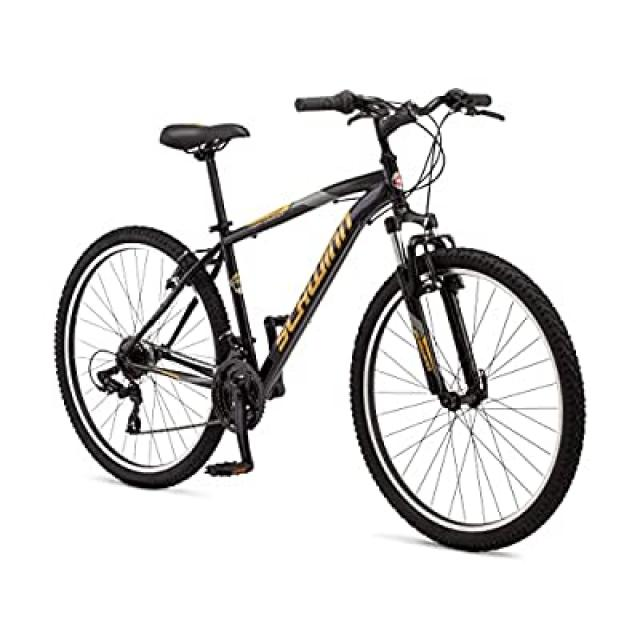bicycle: (51, 49, 594, 580)
